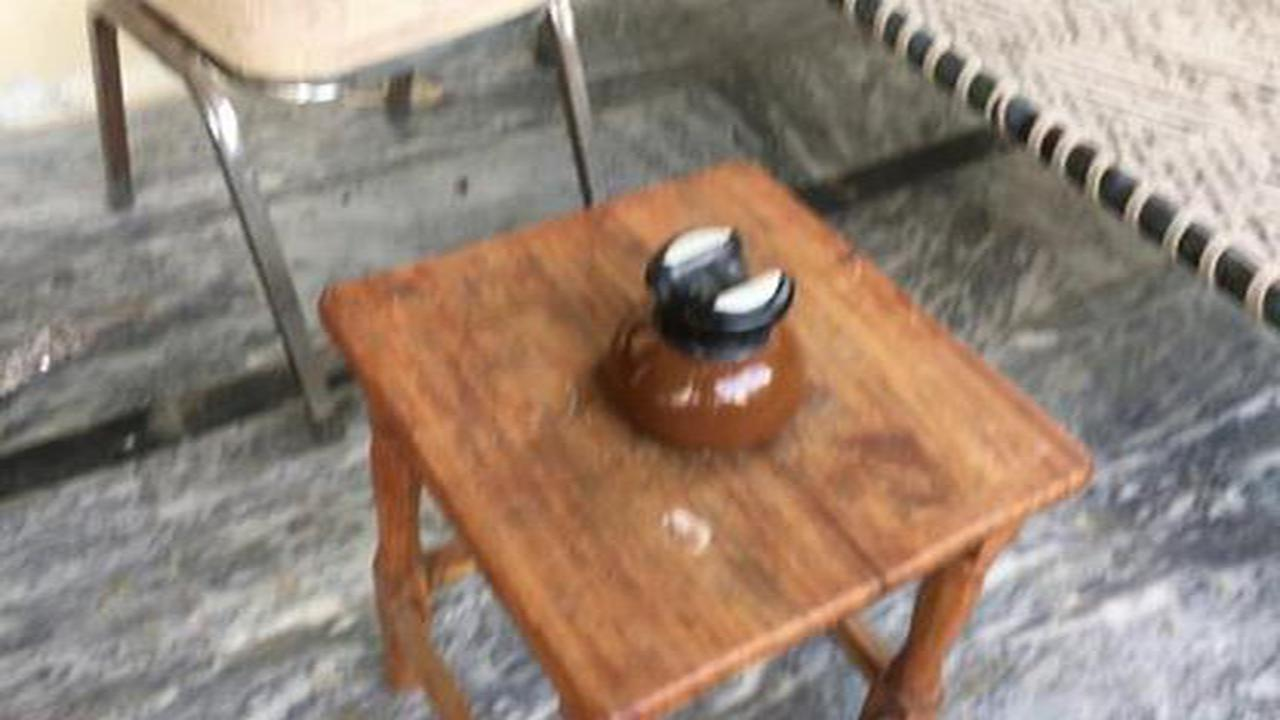insulator_pin: (582, 215, 828, 471)
